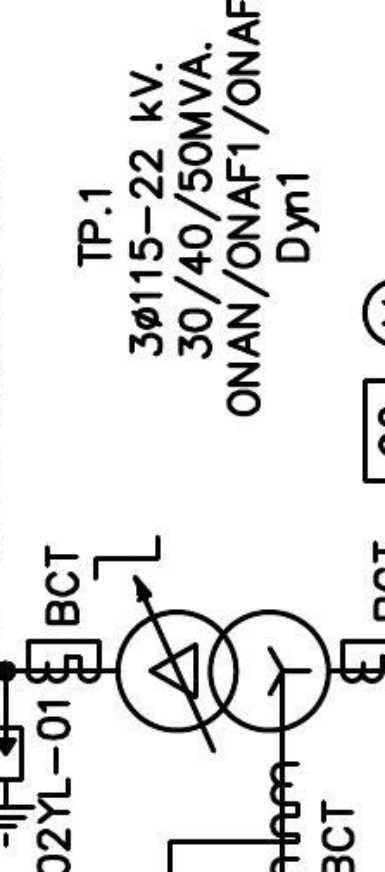11522_tx_dyn1: (114, 608, 333, 734)
